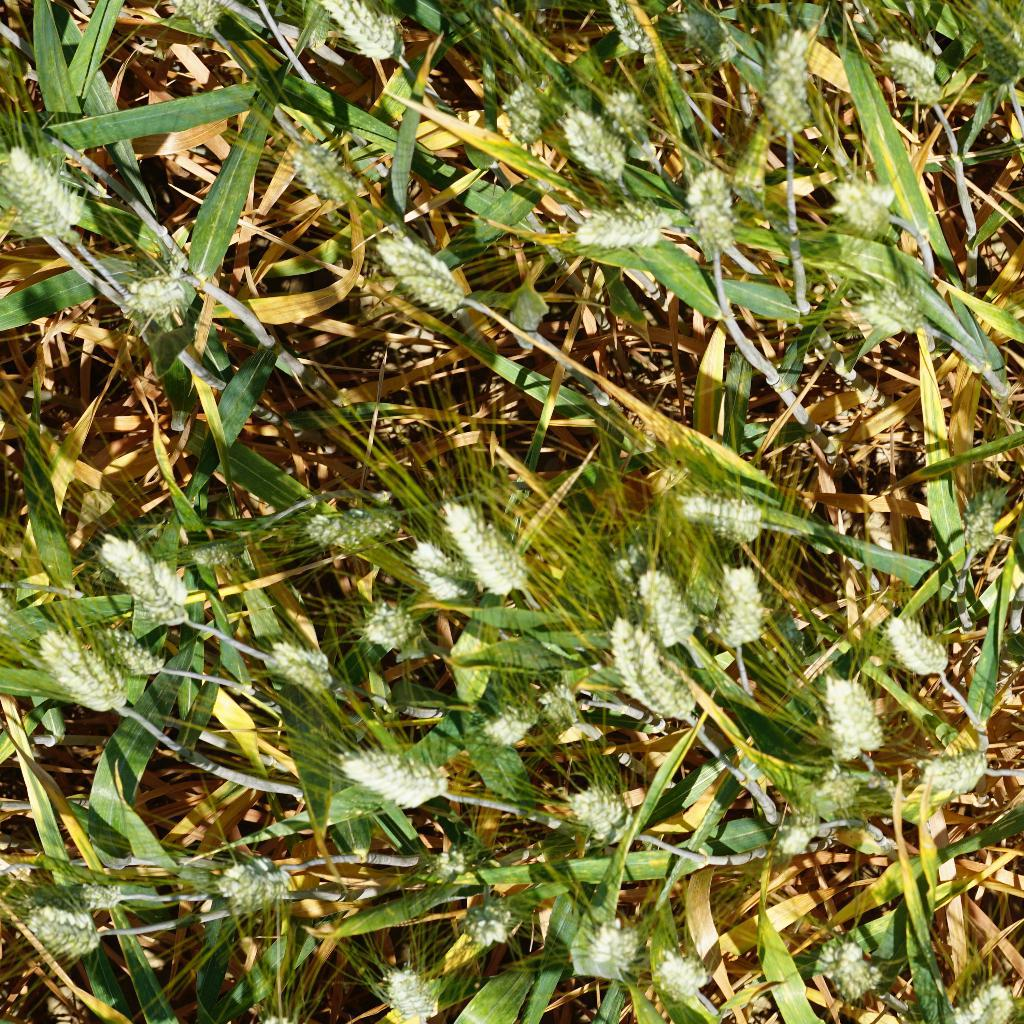0-0: (361, 210, 493, 322), (602, 613, 709, 748), (429, 486, 548, 605), (21, 609, 130, 717), (333, 735, 466, 818), (90, 537, 200, 636), (277, 126, 388, 219), (2, 144, 100, 245), (647, 471, 773, 541), (754, 21, 819, 150), (318, 0, 421, 81), (799, 169, 907, 246), (283, 496, 407, 561), (806, 929, 894, 1017), (810, 666, 882, 769), (874, 606, 960, 688), (68, 617, 175, 681), (555, 100, 628, 190), (105, 261, 206, 324), (634, 564, 705, 653), (571, 193, 683, 249), (912, 724, 990, 803), (200, 849, 301, 909), (404, 529, 474, 613), (849, 276, 930, 348), (443, 885, 519, 961), (557, 778, 638, 847), (874, 26, 945, 104), (716, 557, 770, 656), (29, 905, 119, 964), (962, 0, 1024, 83), (264, 636, 343, 701), (685, 0, 752, 76), (947, 484, 1012, 561), (467, 694, 549, 755), (377, 955, 447, 1024), (687, 161, 737, 256), (649, 944, 717, 1013), (598, 0, 671, 64), (600, 85, 661, 159), (493, 74, 555, 146), (575, 905, 641, 971), (769, 800, 837, 862), (538, 675, 598, 742), (62, 870, 138, 919), (359, 600, 418, 660), (601, 531, 656, 590), (156, 0, 228, 45), (181, 529, 250, 575), (413, 840, 479, 886)
